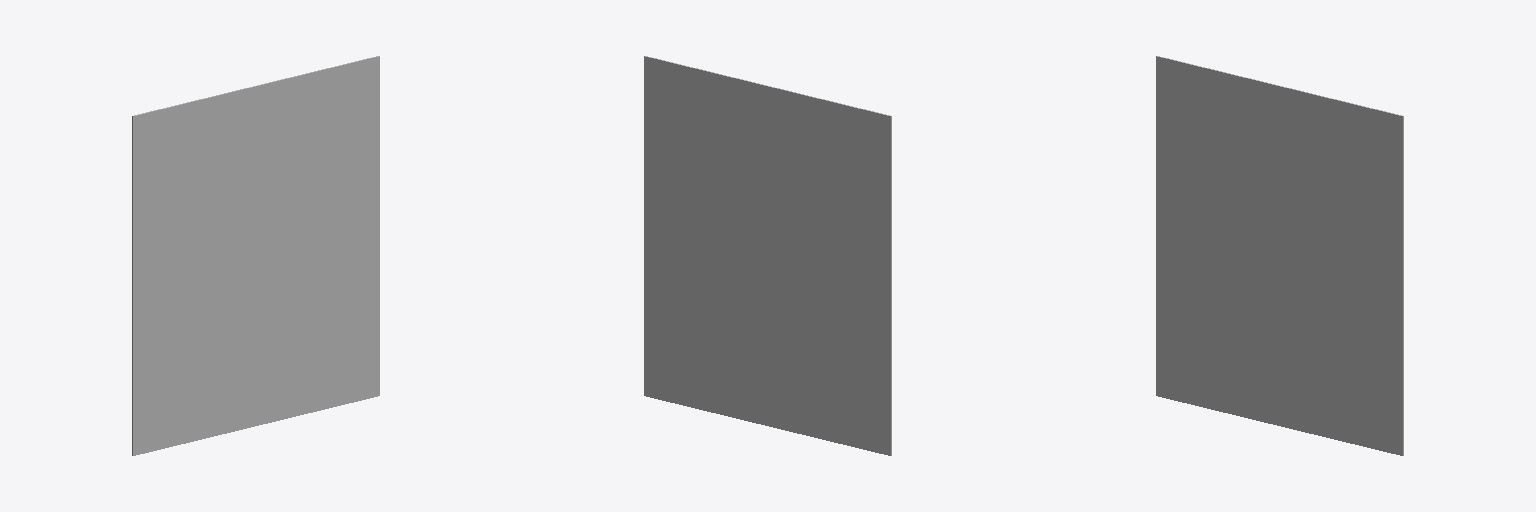
File: 1st Floor bamboo floor mat layerobj.obj
3 views of the same model, side by side, from view 1: azimuth 30°, elevation 25°; view 2: azimuth 150°, elevation 25°; view 3: azimuth 330°, elevation 25° (orthographic).
Visible parts, largest first — view 1: Plane.056; view 2: Plane.056; view 3: Plane.056.
Part boxes in pixels (bbox=[...]): Plane.056: bbox=[132, 56, 379, 455]; Plane.056: bbox=[644, 56, 891, 455]; Plane.056: bbox=[1156, 56, 1403, 455].
Bounding box in the file's own units: 5700 × 7500 × 30.